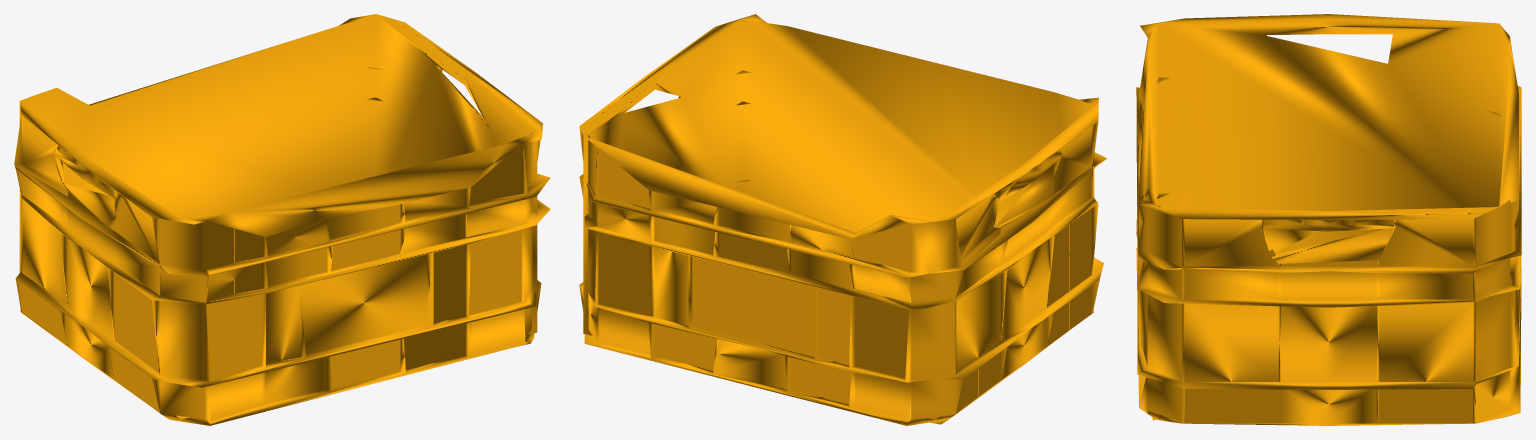
Rendered from plastic_crate_02.lod1.glb.
The picture shows the model from 3 angles, left to right: view 1: azimuth 30°, elevation 25°; view 2: azimuth 150°, elevation 25°; view 3: azimuth 270°, elevation 25°; orthographic projection. The views are drawn at different scales.
Parts seen in each view (by area): view 1: plastic_crate_02; view 2: plastic_crate_02; view 3: plastic_crate_02.
Boxes of the visible parts, x1,y1,x2,y2 form: plastic_crate_02: (14, 14, 550, 425); plastic_crate_02: (579, 14, 1107, 425); plastic_crate_02: (1136, 14, 1521, 425).
Size of the model in its own units: 0.5055 by 0.2541 by 0.4055.
